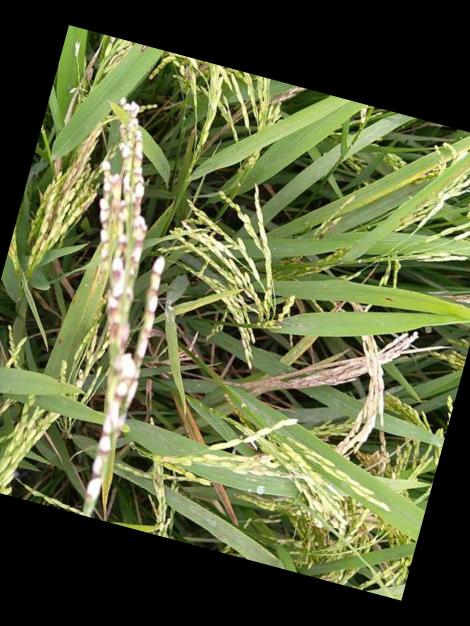Panicle Blight: (129, 215, 147, 240), (118, 321, 130, 353), (150, 467, 163, 494), (105, 319, 120, 342), (112, 238, 128, 259), (104, 303, 119, 325), (182, 64, 195, 84), (108, 267, 123, 283), (109, 201, 125, 216), (248, 464, 269, 475), (247, 453, 264, 465), (127, 256, 139, 272), (148, 268, 161, 281), (76, 200, 89, 213), (121, 373, 136, 384), (131, 354, 142, 369), (130, 196, 141, 209), (131, 240, 144, 250), (109, 179, 121, 189), (113, 427, 122, 440), (113, 393, 124, 402), (146, 310, 155, 321), (15, 421, 26, 430), (110, 295, 122, 302), (140, 328, 148, 338), (97, 448, 108, 455), (130, 171, 140, 178), (90, 472, 99, 479), (84, 493, 92, 500), (100, 430, 108, 437), (108, 36, 115, 44), (150, 289, 157, 296)
